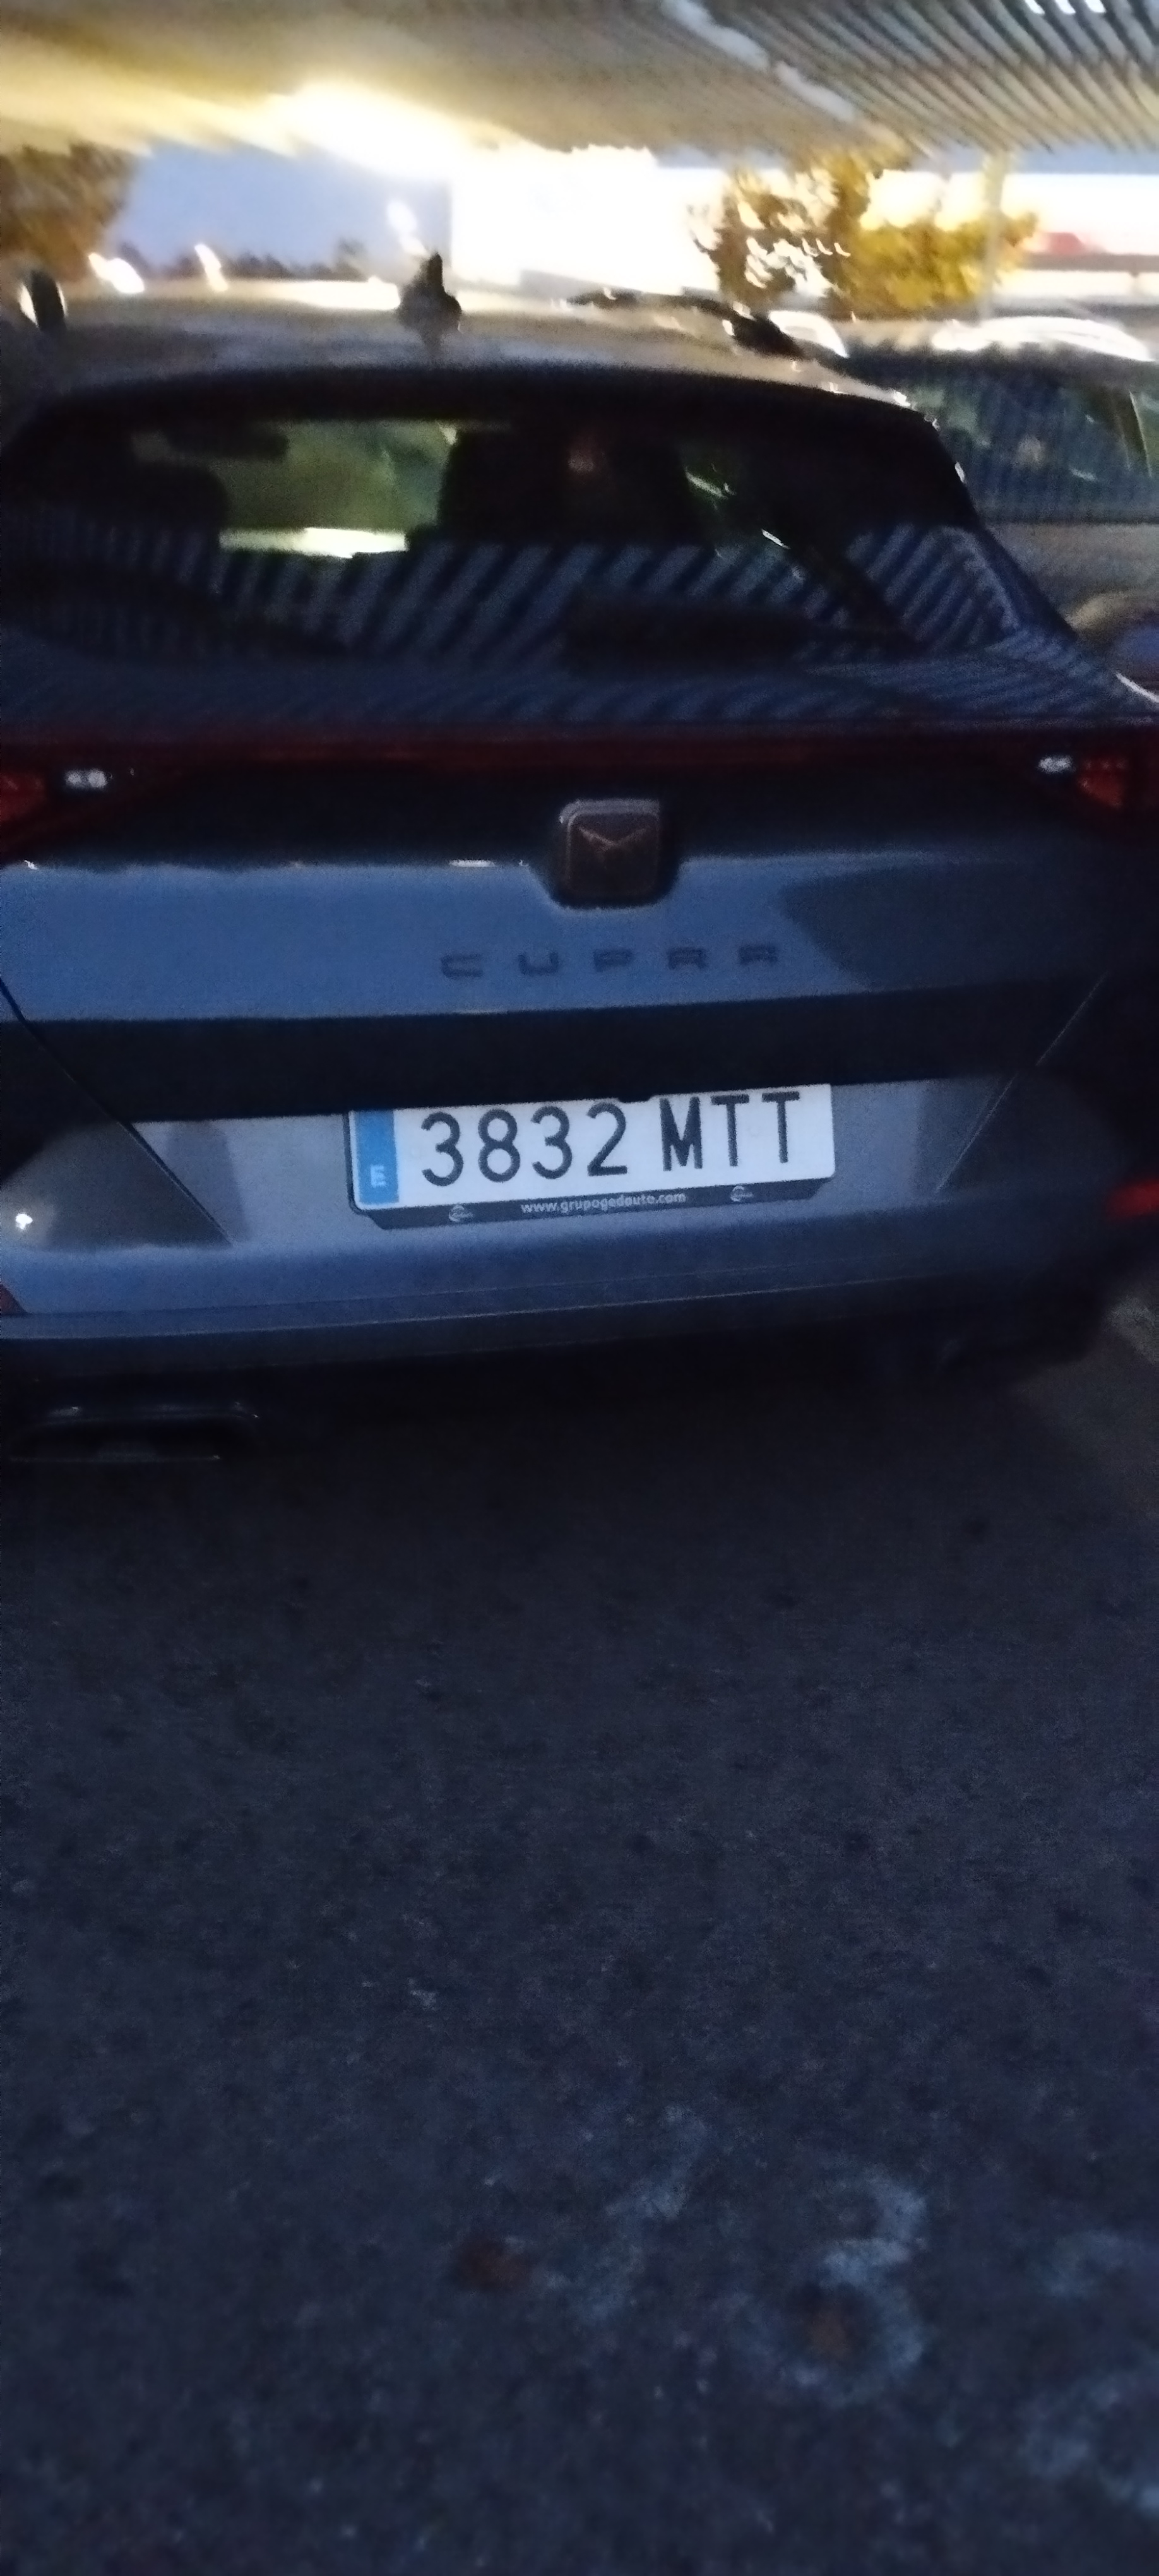Car: (0, 291, 1159, 1445)
Plate: (348, 1109, 852, 1223)
